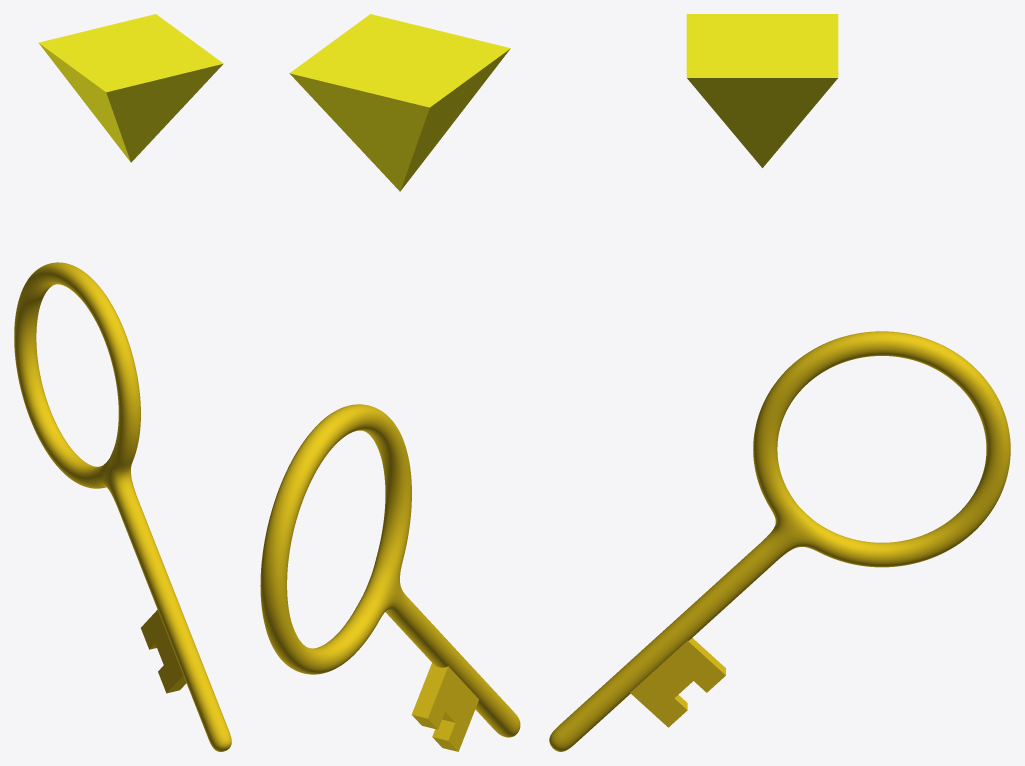
Rendered from item_key.glb.
3 views of the same model, side by side, from view 1: azimuth 30°, elevation 25°; view 2: azimuth 150°, elevation 25°; view 3: azimuth 270°, elevation 25° (orthographic). The views are drawn at different scales.
Parts seen in each view (by area): view 1: 円, 立方体.001, 立方体; view 2: 円, 立方体.001, 立方体; view 3: 円, 立方体.001, 立方体.
Part boxes in pixels (bbox=[...]): 円: bbox=[14, 262, 231, 751]; 立方体.001: bbox=[38, 14, 223, 162]; 立方体: bbox=[141, 610, 186, 693]; 円: bbox=[260, 404, 520, 737]; 立方体.001: bbox=[289, 14, 510, 191]; 立方体: bbox=[411, 663, 478, 751]; 円: bbox=[549, 331, 1010, 751]; 立方体.001: bbox=[686, 14, 838, 167]; 立方体: bbox=[630, 638, 725, 727].
Size of the model in its own units: 0.6484 by 3.33 by 1.98.
